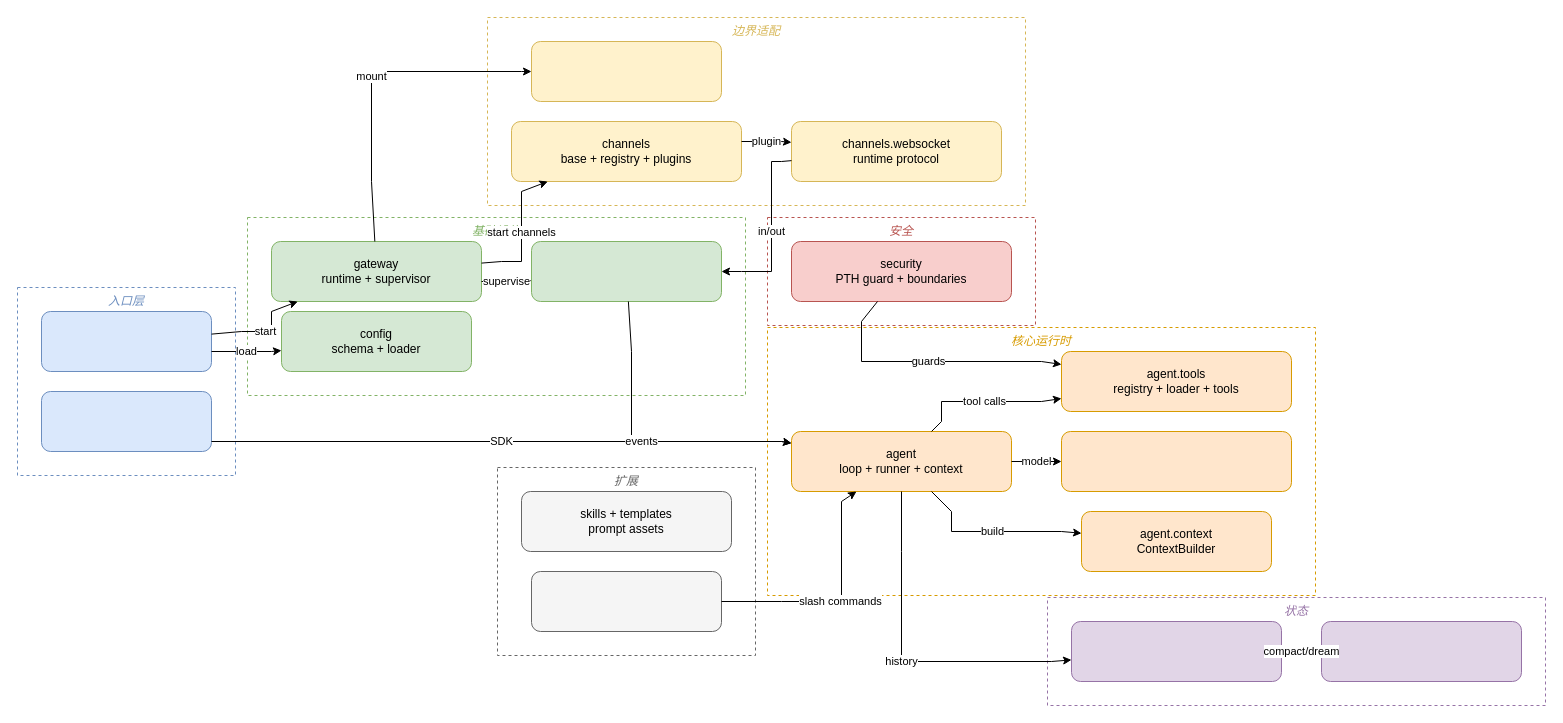
Some shapes in this 1563 by 723 pixel diagram are drawn without their labels. The centre of each missing label's shape, as x and y in pixels:
agent.memory JSONL + Dream: (1421,651)
api FastAPI server: (626,71)
bus events + queue: (626,271)
cli commands.py: (126,341)
command slash router: (626,601)
nanobot.py SDK facade: (126,421)
providers base + factory + adapters: (1176,461)
session manager + goal state: (1176,651)
